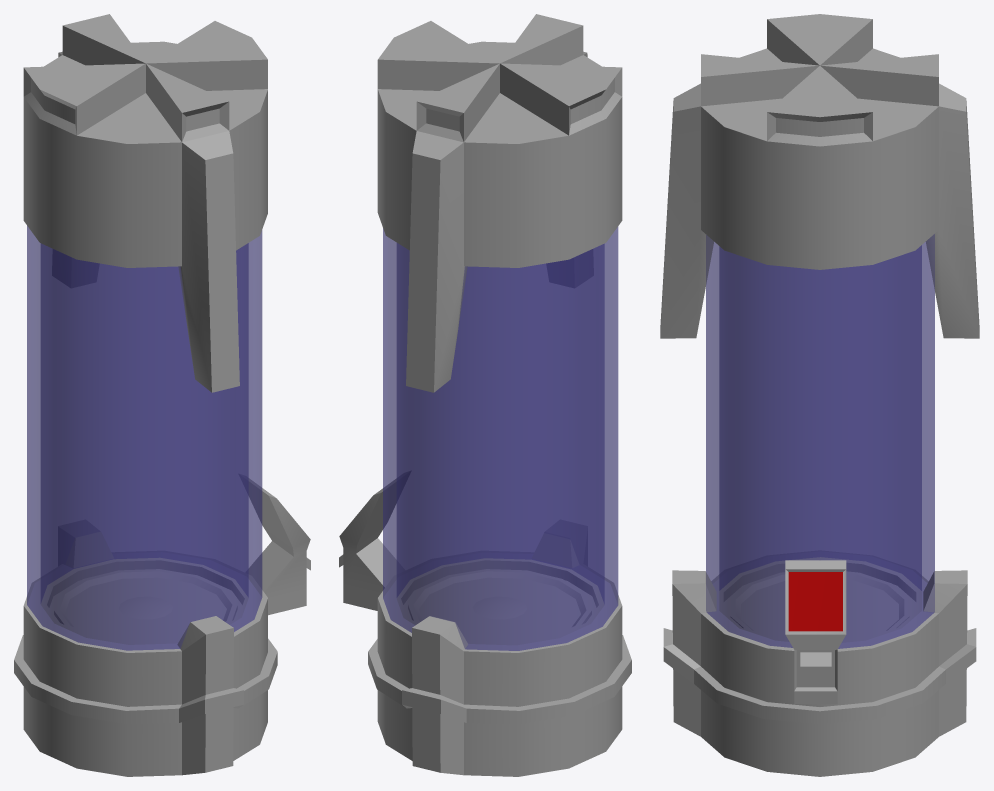
The model's file is Vital_system_Test.fbx.
3 views of the same model, side by side, from view 1: azimuth 30°, elevation 25°; view 2: azimuth 150°, elevation 25°; view 3: azimuth 270°, elevation 25° (orthographic).
Visible parts, largest first — view 1: pasted__Panels; view 2: pasted__Panels; view 3: pasted__Panels.
Boxes of the visible parts, x1,y1,x2,y2 form: pasted__Panels: (14,14,310,776); pasted__Panels: (339,14,631,776); pasted__Panels: (660,14,979,776).
Size of the model in its own units: 276 by 648 by 284.
